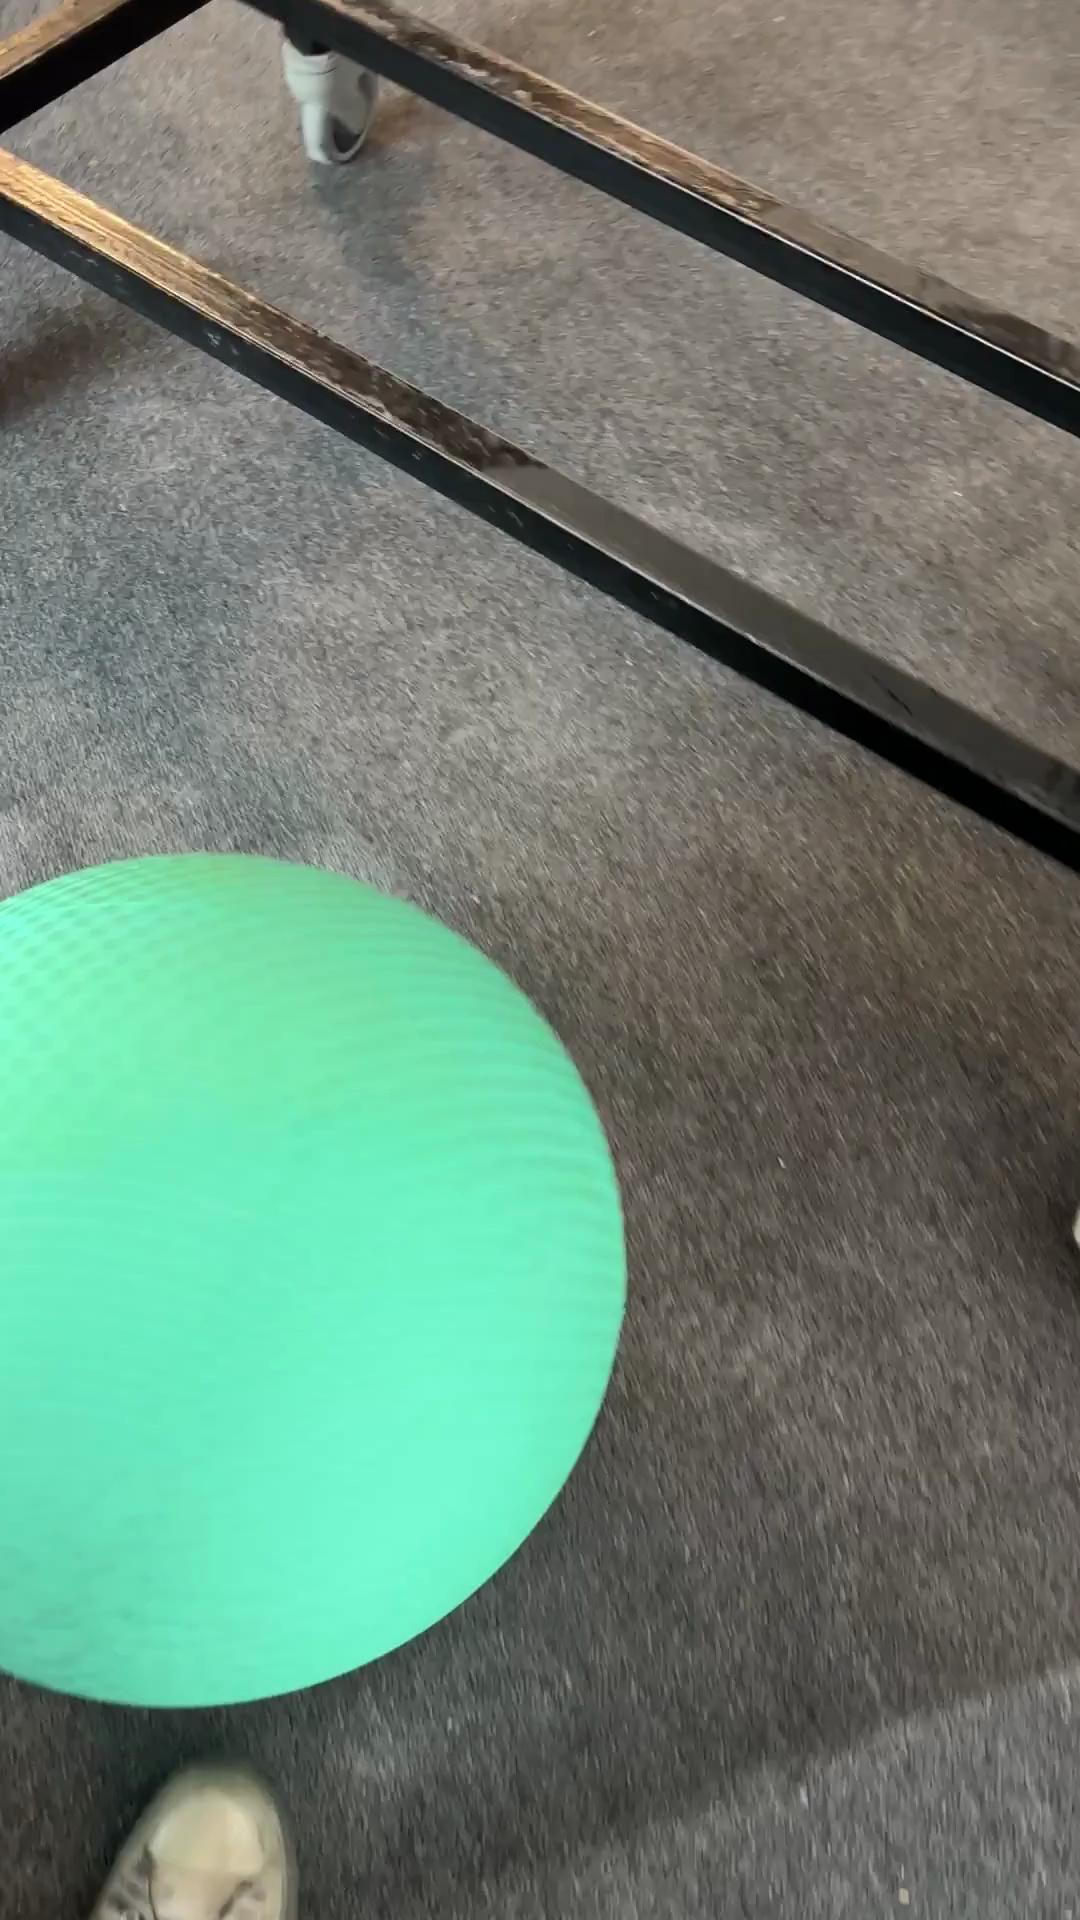ALGAE: (1, 848, 629, 1709)
